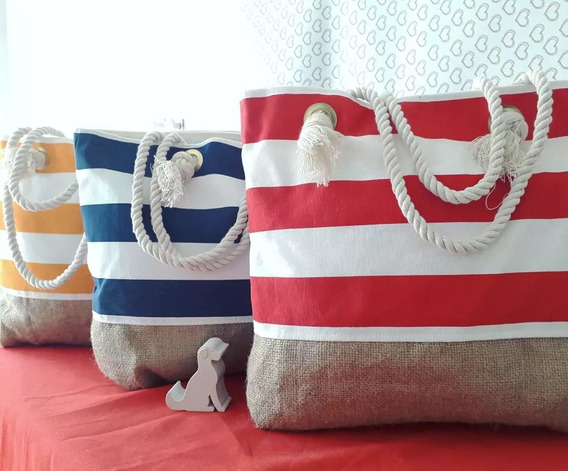cartera: (237, 72, 568, 433), (68, 119, 251, 388), (2, 120, 104, 345)
